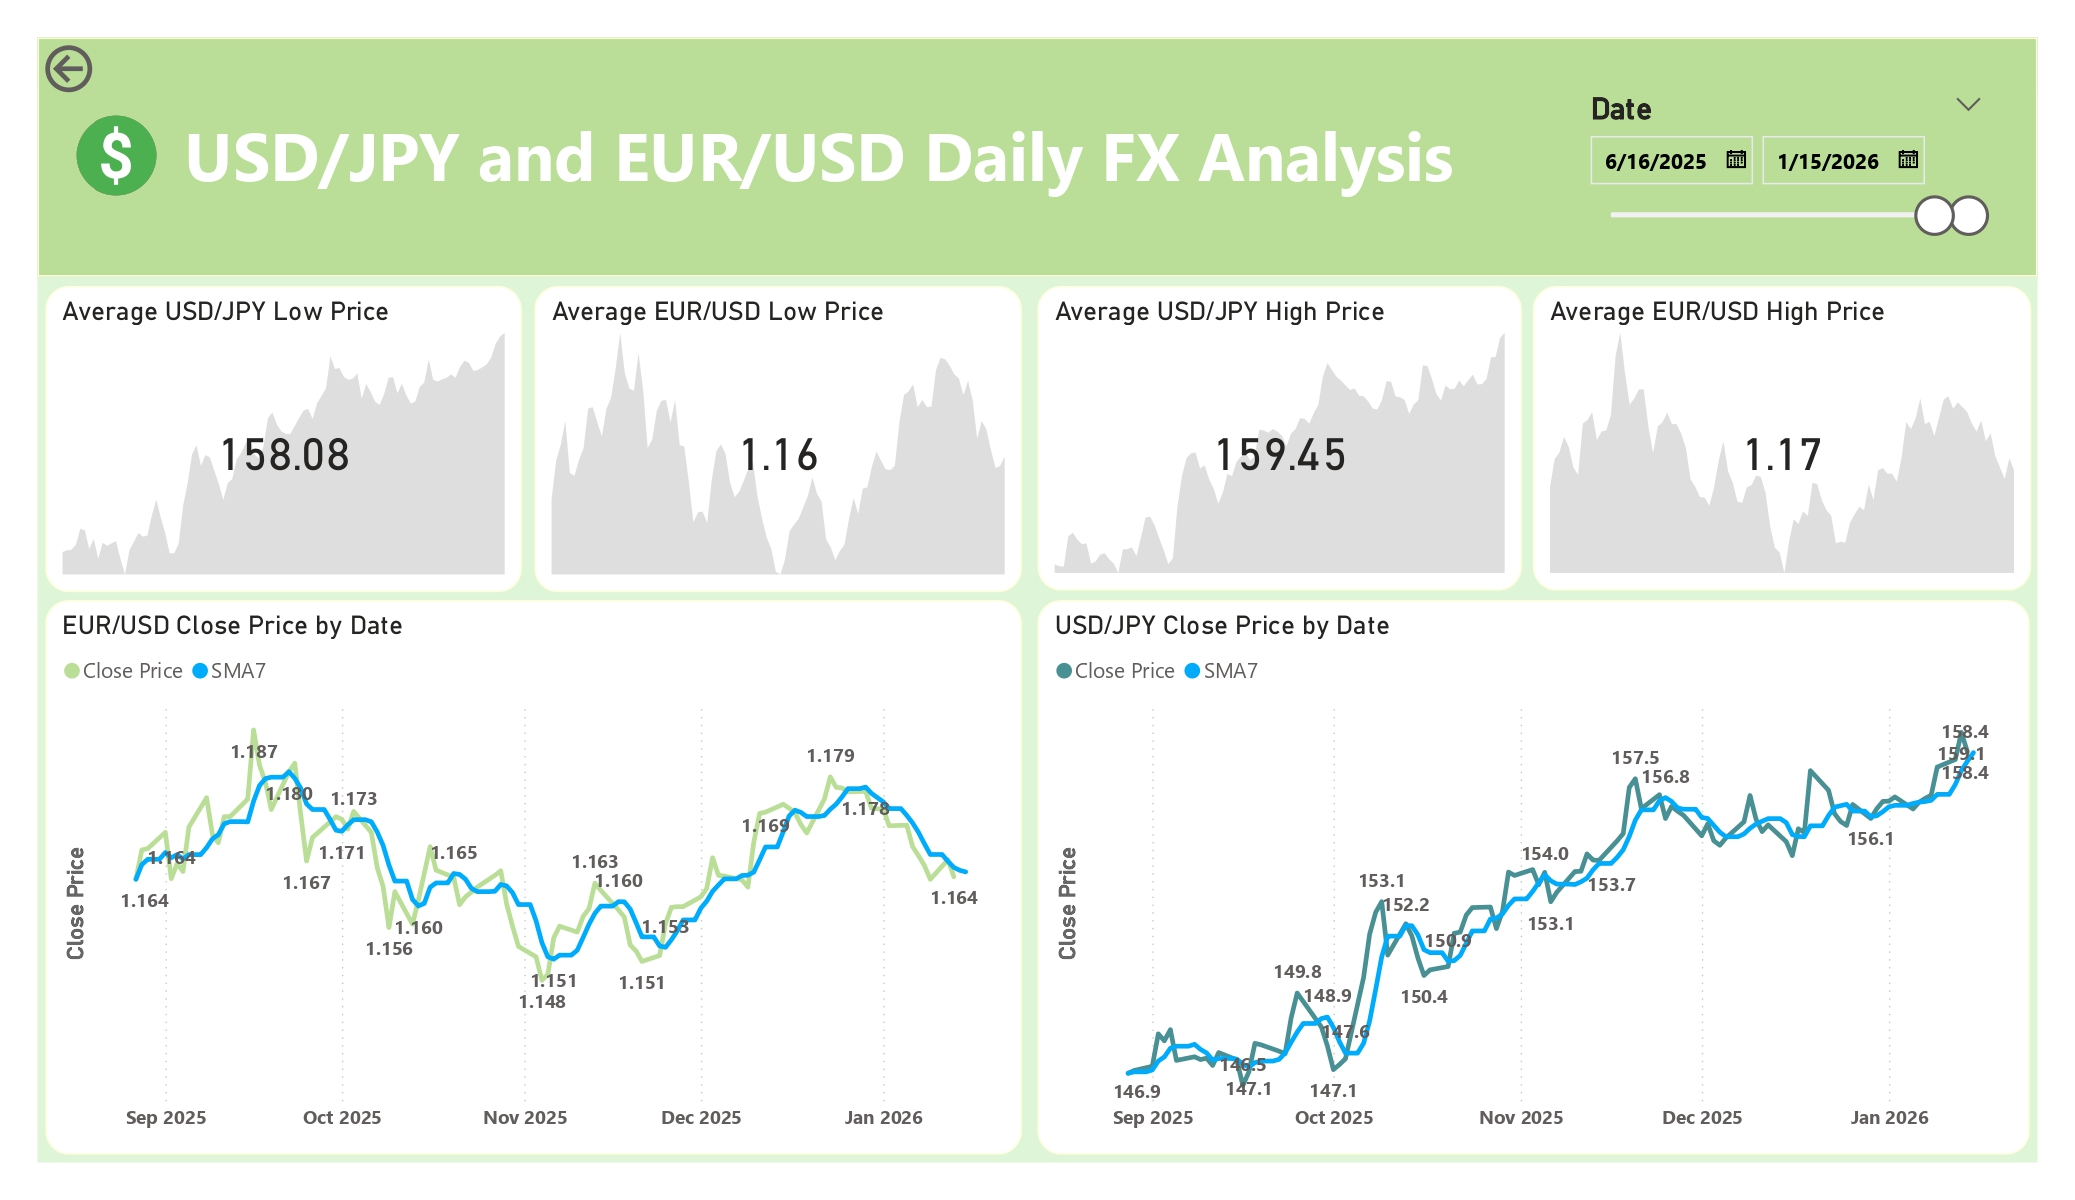

The dashboard page shown, as its layout file describes it:
{"tool":"powerbi","page":{"name":"Overview","canvas":[1280,720],"ordinal":0},"visuals":[{"type":"shape","box":[0,0,1280.4,152.7],"z":0},{"type":"textbox","box":[88.6,41,903.5,66.8],"z":1000},{"type":"slicer","fields":{"Values":["Dim_Date.Date"]},"box":[981.4,28.6,275.2,157.5],"z":2000},{"type":"image","box":[17,42.6,66.8,65.2],"z":3000},{"type":"lineChart","title":"EUR/USD Close Price by Date","fields":{"Category":["Dim_Date.Date"],"Y":["Avg(EUR_USD_facts.ClosePrice)","EUR_USD_facts.EUR_SMA7"]},"box":[5,360,625,355],"z":3001},{"type":"lineChart","title":"USD/JPY Close Price by Date","fields":{"Category":["Dim_Date.Date"],"Y":["Avg(USD_JPY_facts.ClosePrice)","USD_JPY_facts.JPY_SMA7"]},"box":[640,360,635,355],"z":3002},{"type":"actionButton","box":[0,0,100,40],"z":3004},{"type":"kpi","title":"Average EUR/USD High Price","fields":{"TrendLine":["Dim_Date.Date"],"Indicator":["Avg(EUR_USD_facts.HighPrice)"]},"box":[957.1,158.6,318.6,195.7],"z":3005},{"type":"kpi","title":"Average USD/JPY High Price","fields":{"TrendLine":["Dim_Date.Date"],"Indicator":["Avg(USD_JPY_facts.HighPrice)"]},"box":[640,158.6,310,195.7],"z":3006},{"type":"kpi","title":"Average EUR/USD Low Price","fields":{"TrendLine":["Dim_Date.Date"],"Indicator":["Avg(EUR_USD_facts.LowPrice)"]},"box":[317.7,159.2,312.3,195.4],"z":3007},{"type":"kpi","title":"Average USD/JPY Low Price","fields":{"TrendLine":["Dim_Date.Date"],"Indicator":["Avg(USD_JPY_facts.LowPrice)"]},"box":[5.4,159.2,304.6,195.4],"z":3008}]}

Visuals, with their boxes in screenshot pixels (x1, y1, x2, y2):
shape: 38 38 2038 276
textbox: 176 102 1588 206
slicer - Dim_Date.Date: 1571 82 2001 328
image: 64 104 168 206
"EUR/USD Close Price by Date" lineChart: 45 600 1022 1155
"USD/JPY Close Price by Date" lineChart: 1038 600 2030 1155
actionButton: 38 38 194 100
"Average EUR/USD High Price" kpi: 1533 285 2031 591
"Average USD/JPY High Price" kpi: 1038 285 1522 591
"Average EUR/USD Low Price" kpi: 534 286 1022 592
"Average USD/JPY Low Price" kpi: 46 286 522 592
